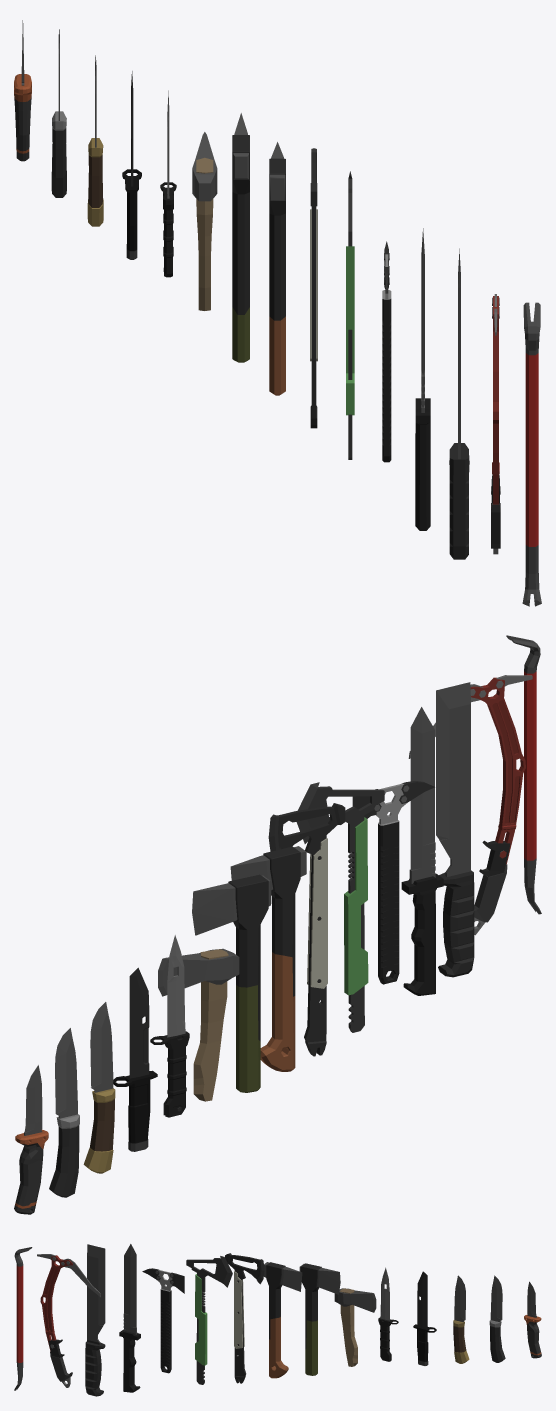
File: low-poly_eft_melee_weapons.glb
3 renders of one model, top to bottom at view 1: azimuth 30°, elevation 25°; view 2: azimuth 150°, elevation 25°; view 3: azimuth 270°, elevation 25°, orthographic. The views are drawn at different scales.
Parts seen in each view (by area): view 1: Object_5, Object_13, Object_16, Object_3, Object_9, Object_14, Object_15, Object_8, Object_6, Object_11, Object_4, Object_10 (+3 smaller); view 2: Object_9, Object_13, Object_14, Object_16, Object_15, Object_8, Object_11, Object_3, Object_6, Object_7, Object_4, Object_12 (+3 smaller); view 3: Object_9, Object_13, Object_16, Object_14, Object_15, Object_11, Object_8, Object_6, Object_3, Object_5, Object_7, Object_4 (+3 smaller).
Part boxes in pixels (x1,y1,x2,y2): Object_5: (522, 302, 541, 606); Object_13: (232, 113, 249, 362); Object_16: (269, 142, 285, 395); Object_3: (192, 132, 217, 310); Object_9: (449, 248, 469, 559); Object_14: (415, 228, 430, 530); Object_15: (346, 171, 354, 459); Object_8: (310, 148, 317, 428); Object_6: (382, 241, 391, 462); Object_11: (491, 294, 500, 554); Object_4: (87, 55, 103, 226); Object_10: (14, 20, 31, 161); Object_9: (436, 682, 474, 977); Object_13: (192, 874, 271, 1092); Object_14: (401, 707, 443, 995); Object_16: (230, 846, 306, 1071); Object_15: (296, 782, 384, 1032); Object_8: (268, 803, 345, 1056); Object_11: (408, 675, 532, 935); Object_3: (158, 948, 239, 1101); Object_6: (352, 781, 434, 984); Object_7: (113, 967, 157, 1151); Object_4: (83, 1002, 115, 1173); Object_12: (49, 1028, 79, 1197); Object_9: (85, 1244, 105, 1396); Object_13: (299, 1263, 340, 1375); Object_16: (264, 1262, 302, 1378); Object_14: (119, 1244, 140, 1392); Object_15: (186, 1256, 232, 1384); Object_11: (37, 1254, 100, 1387); Object_8: (225, 1253, 264, 1383); Object_6: (142, 1268, 184, 1373); Object_3: (334, 1288, 376, 1366); Object_5: (14, 1247, 32, 1390); Object_7: (413, 1271, 436, 1365); Object_4: (453, 1275, 469, 1363).
Bounding box in the file's own units: 1.09 × 4.57 × 14.45.
15 materials, 15 textured.
